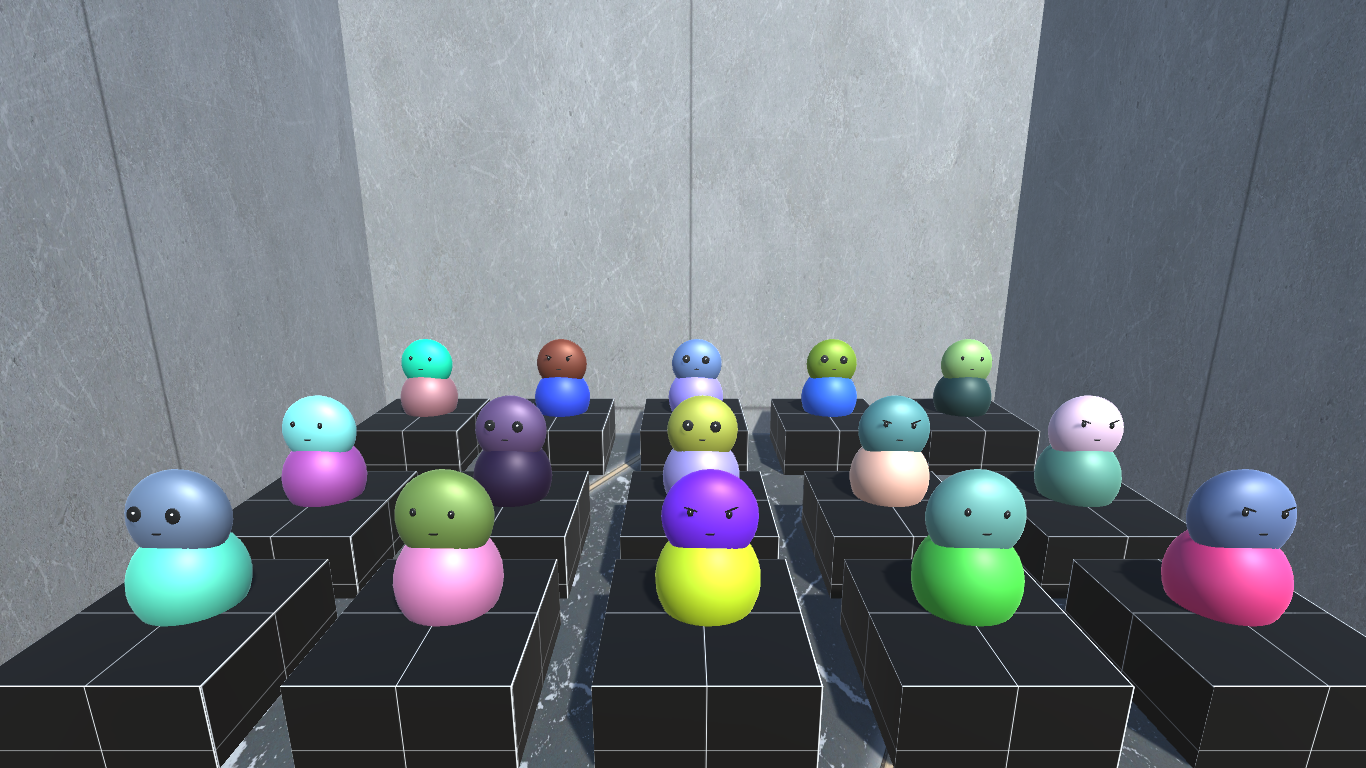blob_atento: (120, 465, 250, 624), (465, 393, 552, 507), (656, 398, 746, 496), (802, 338, 858, 424), (670, 339, 725, 416)
blob_normal: (911, 469, 1023, 631), (390, 471, 503, 623), (281, 396, 371, 508), (936, 336, 994, 427), (398, 340, 458, 413)
blob_raiva: (1161, 465, 1301, 637), (657, 471, 764, 619), (1034, 395, 1129, 520), (848, 396, 930, 508), (533, 336, 592, 419)
